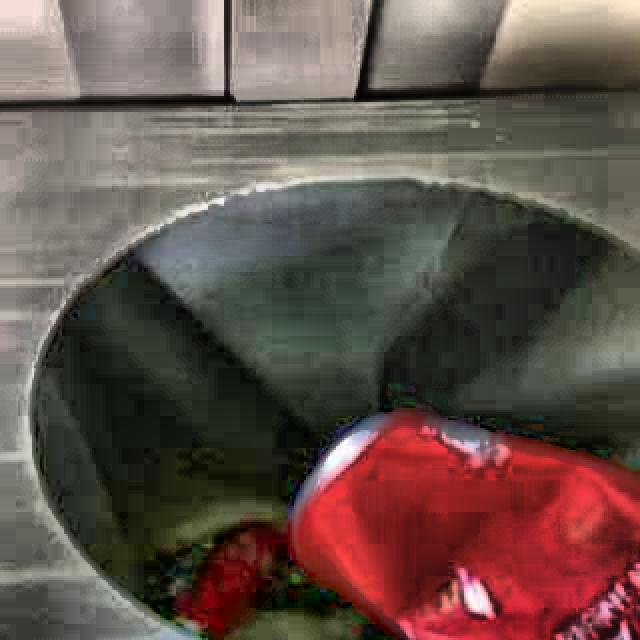metal: (293, 418, 640, 640)
